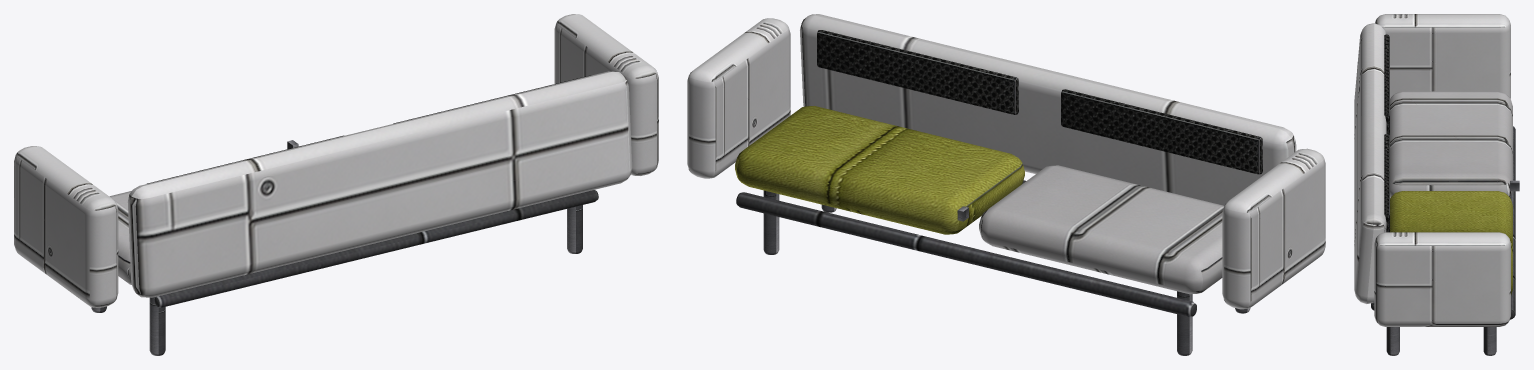
The model's file is hp_l4_cineclinic_waiting_sofa_row.glb.
3 views of the same model, side by side, from view 1: azimuth 30°, elevation 25°; view 2: azimuth 150°, elevation 25°; view 3: azimuth 270°, elevation 25° (orthographic). The views are drawn at different scales.
Visible parts, largest first — view 1: rear_ceramic_spine, left_arm, right_arm, rear_bar, seat_pad_left, leg_3, leg_4; view 2: rear_ceramic_spine, seat_pad_right, seat_pad_left, left_arm, right_arm, left_back_cushion_shadow, right_back_cushion_shadow, front_bar, leg_2, leg_1; view 3: right_arm, seat_pad_left, left_arm, rear_ceramic_spine, seat_pad_right, front_bar, left_back_cushion_shadow, right_back_cushion_shadow, leg_2, leg_4.
Part boxes in pixels (x1,y1,x2,y2): rear_ceramic_spine: [127, 71, 632, 297]; left_arm: [14, 146, 118, 307]; right_arm: [554, 14, 658, 175]; rear_bar: [154, 190, 598, 307]; seat_pad_left: [109, 191, 131, 284]; leg_3: [149, 296, 165, 355]; leg_4: [567, 205, 582, 253]; rear_ceramic_spine: [800, 14, 1296, 205]; seat_pad_right: [735, 106, 1024, 234]; seat_pad_left: [979, 165, 1223, 294]; left_arm: [1222, 148, 1325, 309]; right_arm: [687, 18, 790, 178]; left_back_cushion_shadow: [1061, 89, 1262, 174]; right_back_cushion_shadow: [817, 30, 1018, 114]; front_bar: [736, 192, 1196, 316]; leg_2: [763, 190, 779, 254]; leg_1: [1177, 291, 1192, 355]; right_arm: [1374, 232, 1510, 326]; seat_pad_left: [1390, 91, 1512, 197]; left_arm: [1375, 14, 1510, 98]; rear_ceramic_spine: [1354, 23, 1386, 303]; seat_pad_right: [1390, 191, 1512, 295]; front_bar: [1510, 126, 1515, 319]; left_back_cushion_shadow: [1384, 34, 1389, 135]; right_back_cushion_shadow: [1384, 134, 1389, 232]; leg_2: [1483, 327, 1496, 355]; leg_4: [1386, 327, 1399, 355].
Bounding box in the file's own units: 2.88 × 0.8792 × 0.87.
5 materials, 5 textured.
